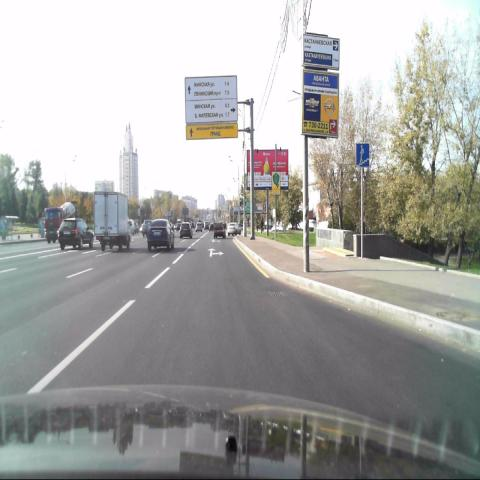6_6: (356, 142, 369, 168)
